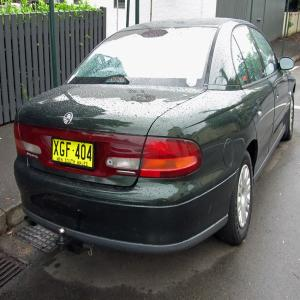Vehicle-registration-plate: (45, 133, 99, 174)
